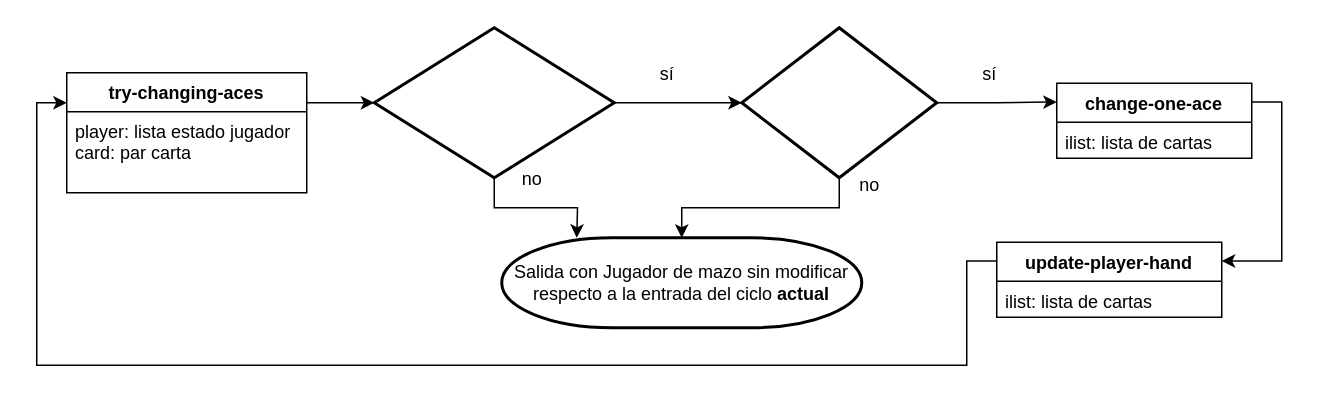
This 1320x404 diagram has some shape labels left out. The shapes that lost their labels are listed below. From the top down, each one's centre as x and y in pixels, then its label:
At (493,102): "22>( raw-score player)?".
At (839,102): "( has-aces player)?".
